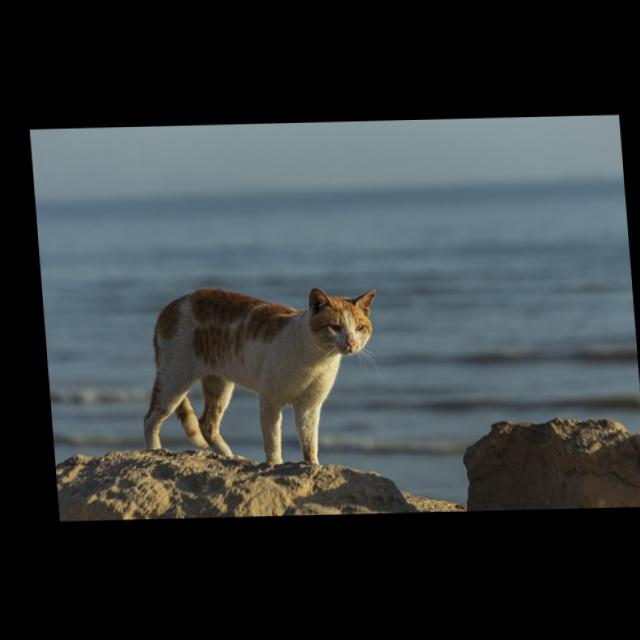animals: (136, 288, 372, 467)
